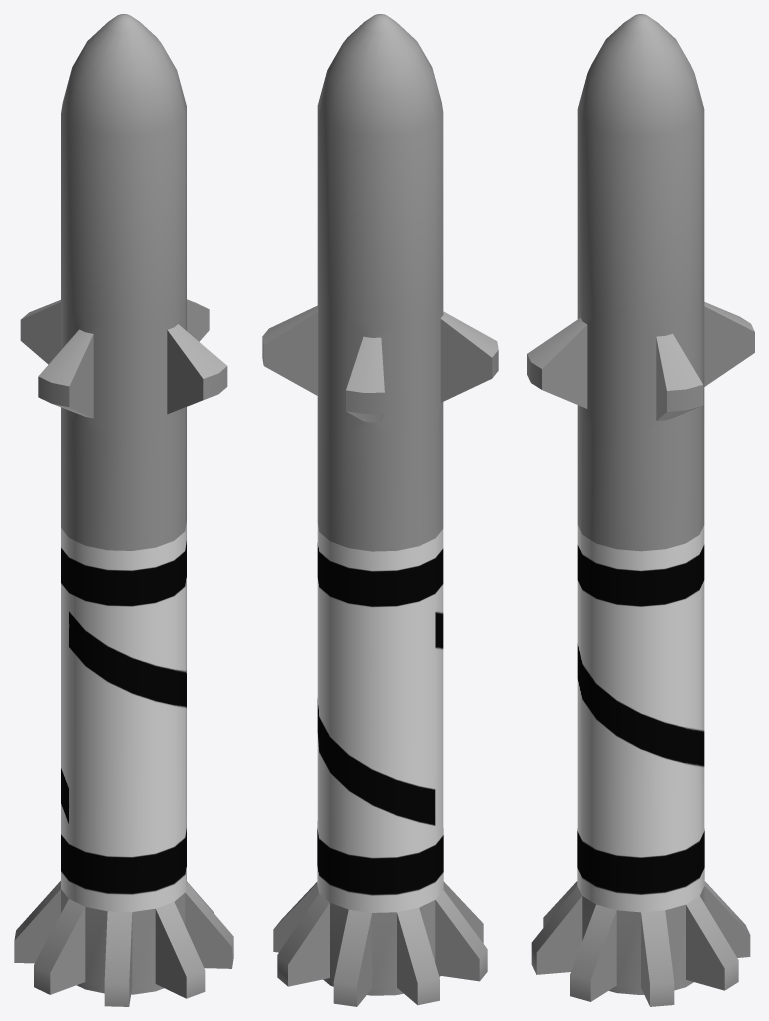
The model's file is Missile 3.fbx.
The picture shows the model from 3 angles, left to right: view 1: azimuth 30°, elevation 25°; view 2: azimuth 150°, elevation 25°; view 3: azimuth 270°, elevation 25°; orthographic projection.
Parts seen in each view (by area): view 1: Cylinder, Cylinder_1; view 2: Cylinder, Cylinder_1; view 3: Cylinder, Cylinder_1.
Part boxes in pixels (left/top/right/bottom): Cylinder: left=14, top=14, right=233, bottom=1006; Cylinder_1: left=61, top=521, right=186, bottom=911; Cylinder: left=262, top=14, right=498, bottom=1006; Cylinder_1: left=317, top=523, right=443, bottom=912; Cylinder: left=527, top=14, right=754, bottom=1006; Cylinder_1: left=577, top=525, right=704, bottom=912.
Size of the model in its own units: 0.2923 by 1.35 by 0.2923.
